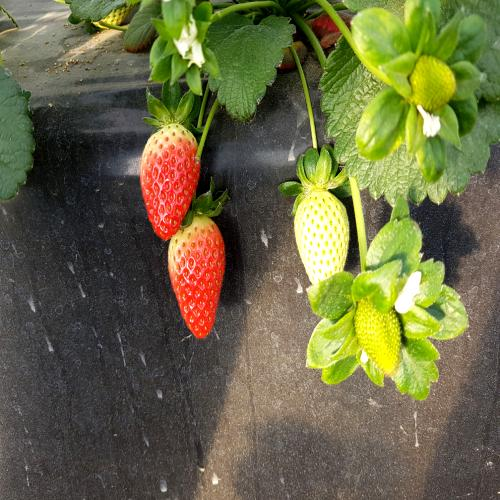partially-ripe: (166, 205, 234, 348), (139, 118, 201, 253)
